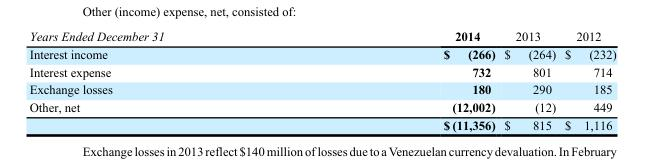table: (28, 28, 615, 131)
table column: (28, 28, 303, 131), (303, 28, 499, 131), (499, 28, 559, 131), (559, 28, 615, 131)
table column header: (28, 28, 615, 44)
table row: (28, 44, 615, 62), (28, 62, 615, 80), (28, 97, 615, 115), (28, 80, 615, 97), (28, 28, 615, 44), (28, 115, 615, 131)
